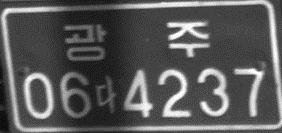0: (22, 71, 54, 120)
2: (157, 68, 191, 118)
3: (197, 66, 229, 118)
4: (123, 68, 152, 118)
6: (59, 71, 92, 119)
7: (233, 66, 265, 117)
광주_D: (63, 21, 210, 62)
다: (95, 74, 117, 114)
